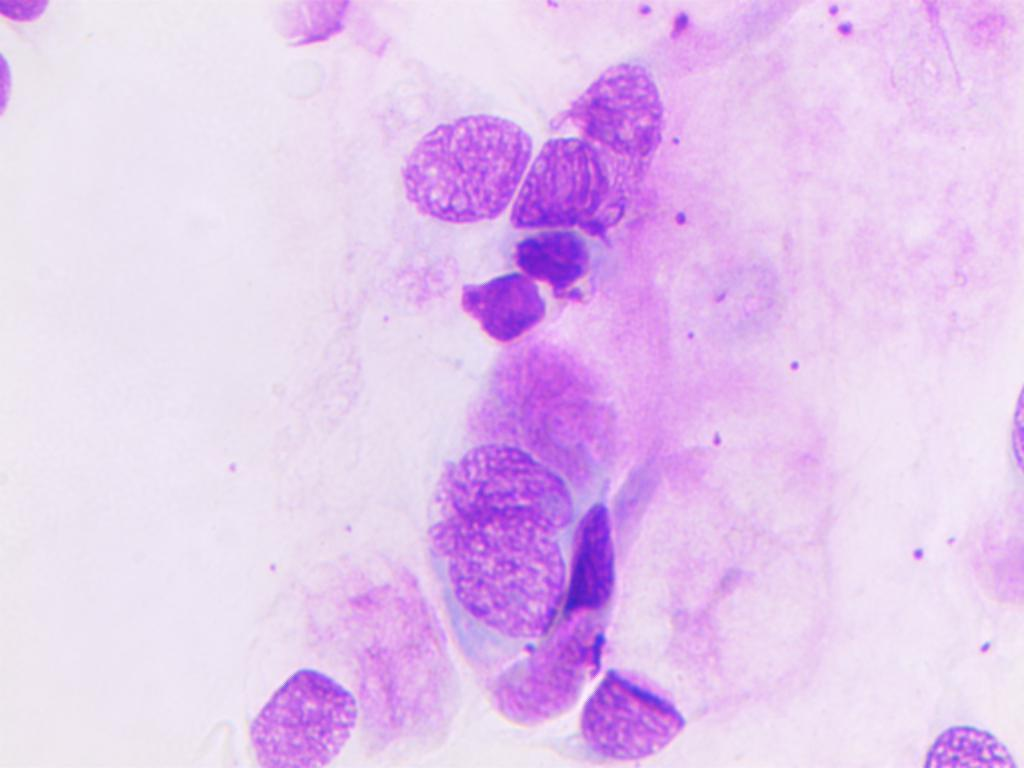artifact: (515, 51, 682, 233), (564, 499, 630, 631), (453, 267, 549, 347), (512, 230, 597, 312)
epithelial: (415, 433, 568, 640), (228, 632, 378, 768), (384, 101, 533, 225), (920, 701, 1024, 768)
goblet_cell: (576, 464, 793, 767)
